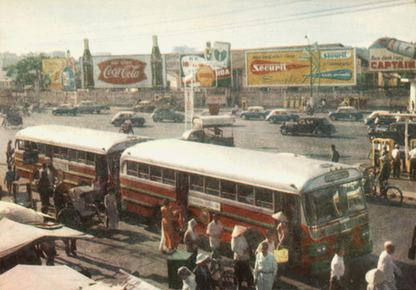bus: (122, 135, 373, 279), (12, 123, 156, 203)
